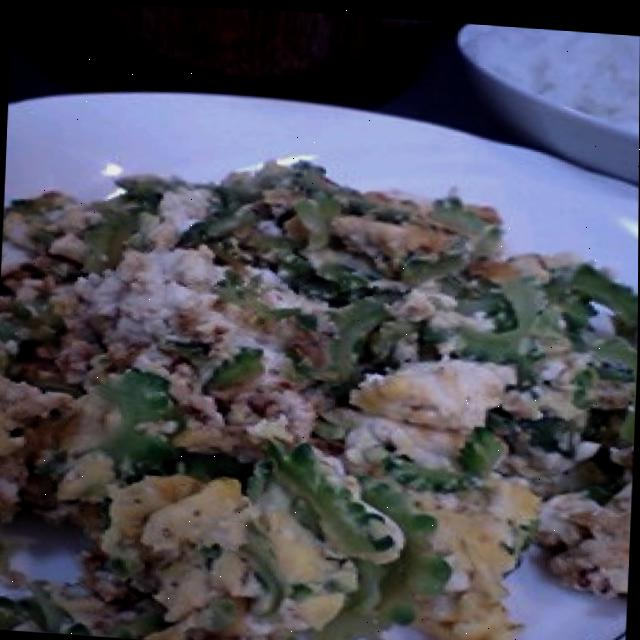熟制海鲜: (0, 95, 639, 640)
